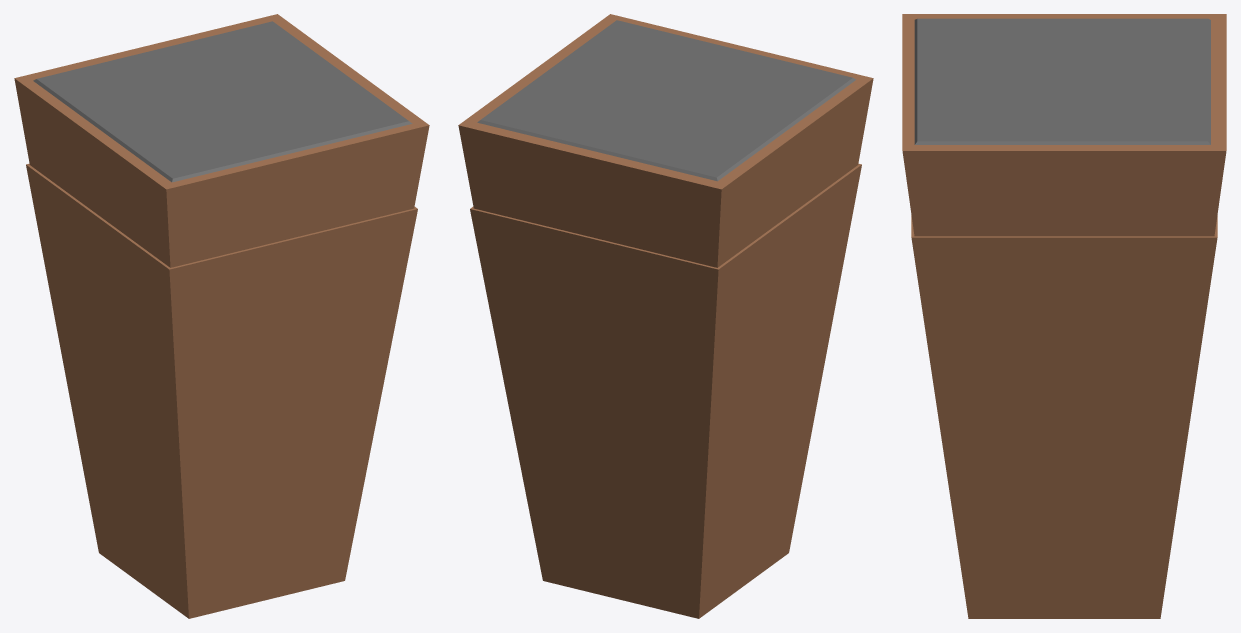
File: bin.fbx
The picture shows the model from 3 angles, left to right: view 1: azimuth 30°, elevation 25°; view 2: azimuth 150°, elevation 25°; view 3: azimuth 270°, elevation 25°; orthographic projection. The views are drawn at different scales.
Parts seen in each view (by area): view 1: hp_bin, lp_bin; view 2: hp_bin, lp_bin; view 3: hp_bin, lp_bin.
Boxes of the visible parts, <box> form: hp_bin: <box>26,21,417,618</box>; lp_bin: <box>14,14,429,267</box>; hp_bin: <box>470,20,861,618</box>; lp_bin: <box>458,14,873,267</box>; hp_bin: <box>911,18,1217,618</box>; lp_bin: <box>902,14,1226,236</box>.
Bounding box in the file's own units: 52.93 × 89.83 × 52.93.
